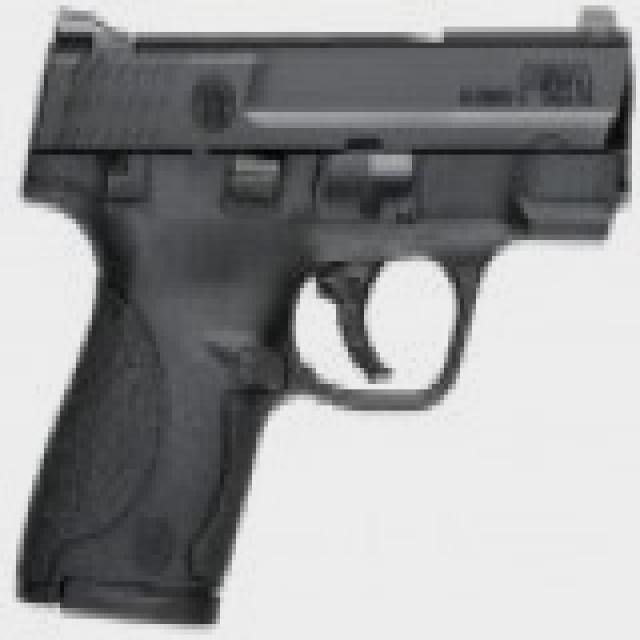pistol: (20, 0, 636, 608)
